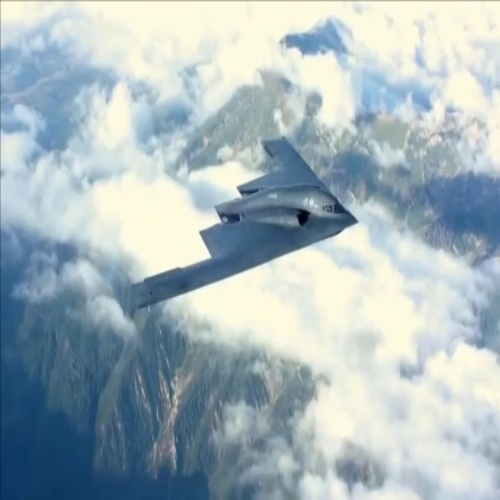uav940: (110, 133, 360, 320)
